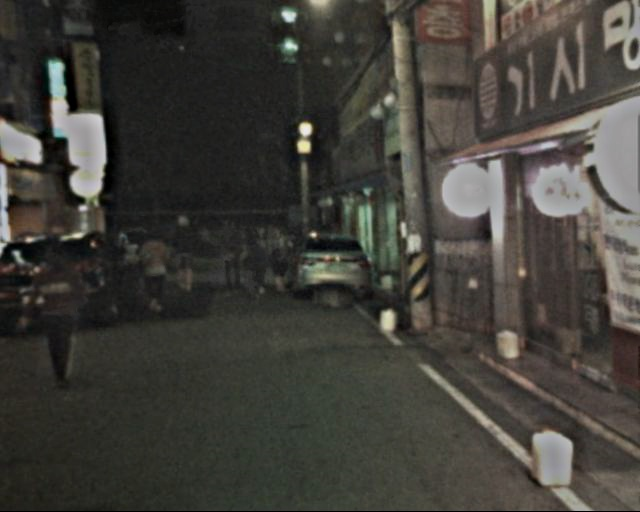person: (32, 240, 90, 376), (137, 230, 173, 313), (166, 212, 202, 294), (232, 229, 263, 299), (261, 228, 293, 292), (217, 221, 244, 283)
